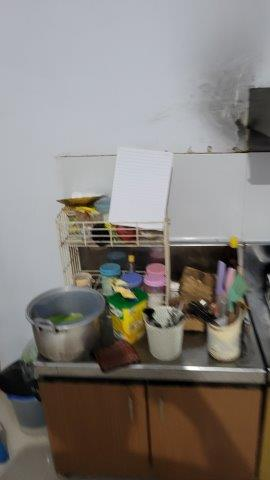kertas: (107, 146, 173, 234)
